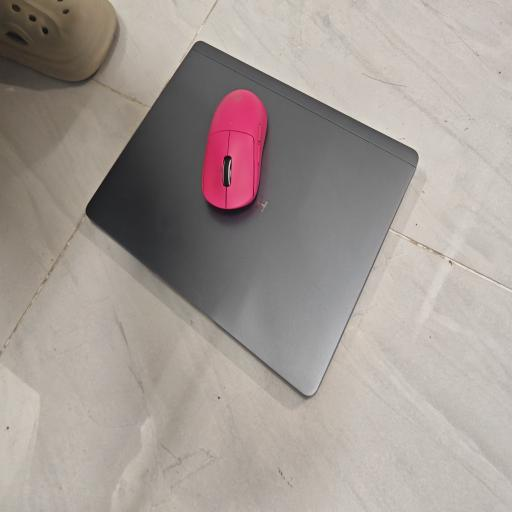laptop: (83, 39, 420, 399)
mouse: (202, 89, 267, 209)
